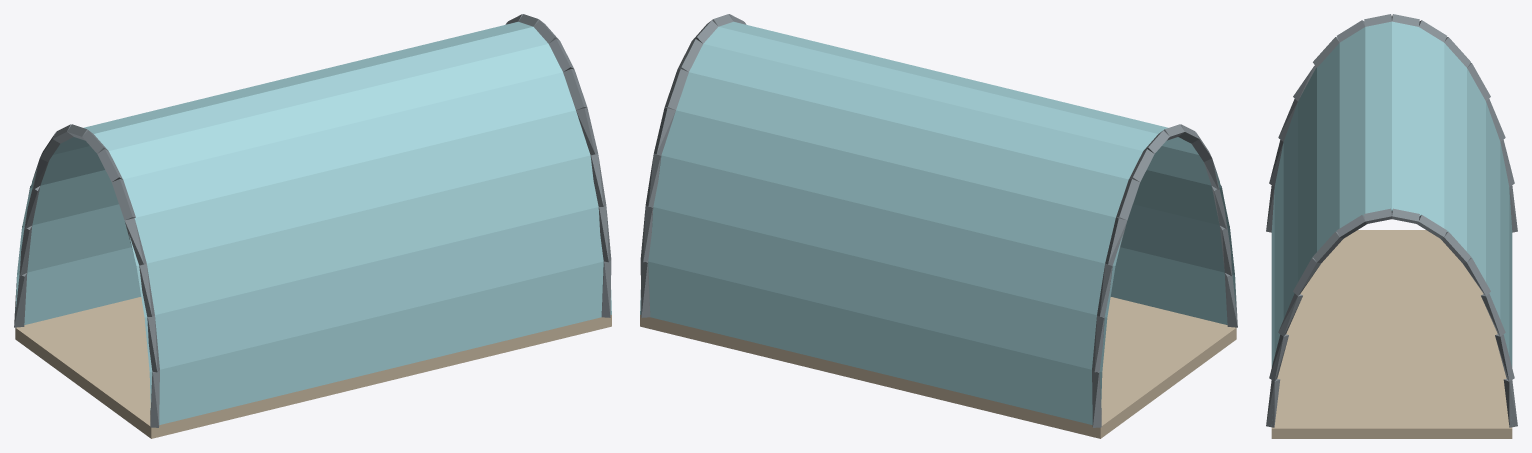
Rendered from glass_tunnel_segment.fbx.
The picture shows the model from 3 angles, left to right: view 1: azimuth 30°, elevation 25°; view 2: azimuth 150°, elevation 25°; view 3: azimuth 270°, elevation 25°; orthographic projection. The views are drawn at different scales.
Visible parts, largest first — view 1: glass_tunnel_segment; view 2: glass_tunnel_segment; view 3: glass_tunnel_segment.
Boxes of the visible parts, left/top/right/bottom form: glass_tunnel_segment: left=14, top=14, right=611, bottom=438; glass_tunnel_segment: left=640, top=14, right=1237, bottom=438; glass_tunnel_segment: left=1266, top=14, right=1517, bottom=438.
Bounding box in the file's own units: 6 × 3.2 × 3.2.
